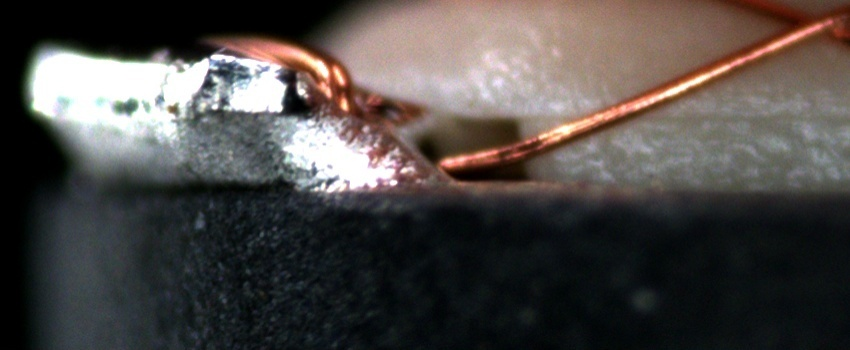CL: (760, 4, 843, 52)
DL: (529, 90, 850, 149)
TE: (219, 31, 367, 121)
